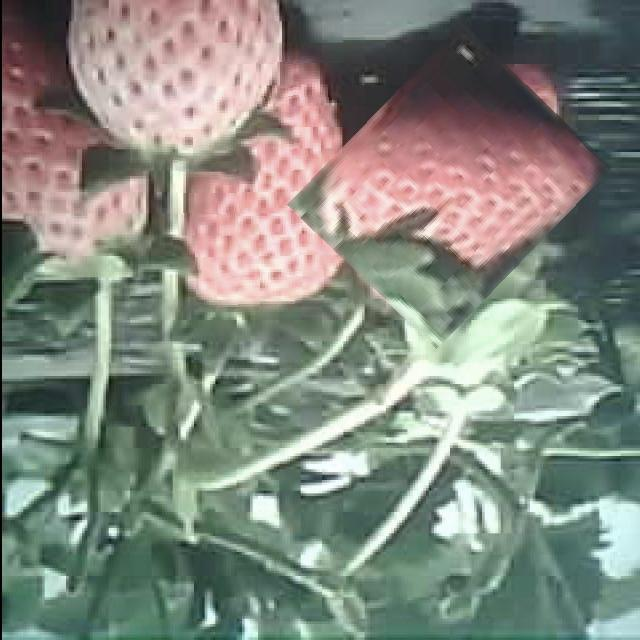strawberry: (316, 41, 582, 332), (177, 61, 351, 307)
